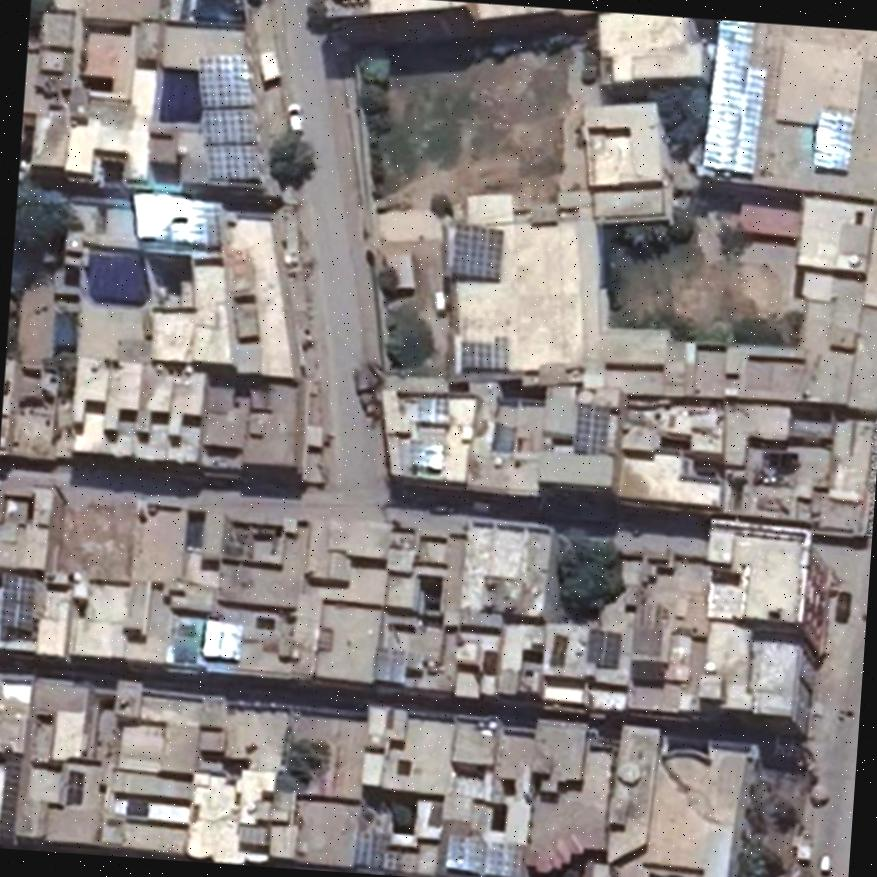Solarpanel: (702, 20, 767, 173), (197, 52, 256, 177), (134, 192, 208, 244), (442, 835, 515, 877), (452, 223, 500, 277), (811, 109, 851, 170), (1, 569, 32, 629), (355, 829, 400, 868), (574, 403, 608, 454), (0, 751, 20, 837), (457, 336, 505, 368), (203, 619, 242, 658), (585, 628, 618, 663)
